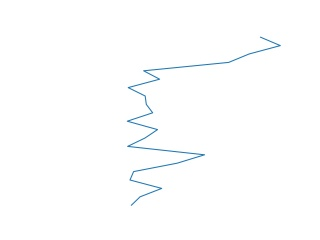crevasseRiverChannelBar: (122, 33, 286, 208)
